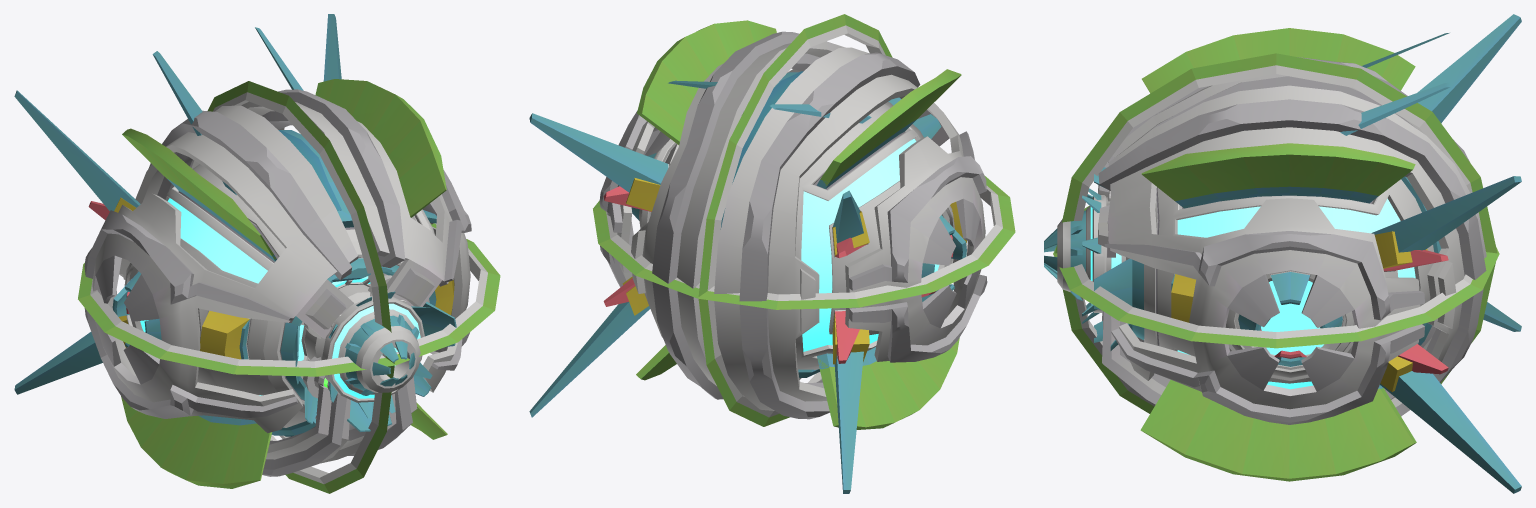
File: Drones.fbx
3 renders of one model, left to right at view 1: azimuth 30°, elevation 25°; view 2: azimuth 150°, elevation 25°; view 3: azimuth 270°, elevation 25°, orthographic. The views are drawn at different scales.
Visible parts, largest first — view 1: Drone.003, Drone.001, Drone.002, Cylinder; view 2: Drone.003, Drone.001, Cylinder, Drone.002, Drone; view 3: Drone.003, Drone.001, Drone.002, Cylinder, Drone.
Boxes of the visible parts, x1=… form: Drone.003: x1=84, y1=89, x2=471, y2=476; Drone.001: x1=14, y1=14, x2=456, y2=436; Drone.002: x1=121, y1=79, x2=447, y2=488; Cylinder: x1=78, y1=81, x2=500, y2=493; Drone.003: x1=599, y1=31, x2=987, y2=419; Drone.001: x1=529, y1=71, x2=966, y2=493; Cylinder: x1=593, y1=14, x2=1015, y2=426; Drone.002: x1=636, y1=20, x2=961, y2=429; Drone: x1=603, y1=186, x2=953, y2=363; Drone.003: x1=1098, y1=57, x2=1486, y2=424; Drone.001: x1=1044, y1=14, x2=1521, y2=493; Drone.002: x1=1106, y1=28, x2=1416, y2=481; Cylinder: x1=1053, y1=53, x2=1499, y2=413; Drone: x1=1260, y1=250, x2=1448, y2=374.
Size of the model in its own units: 5.04 by 5 by 5.4.
